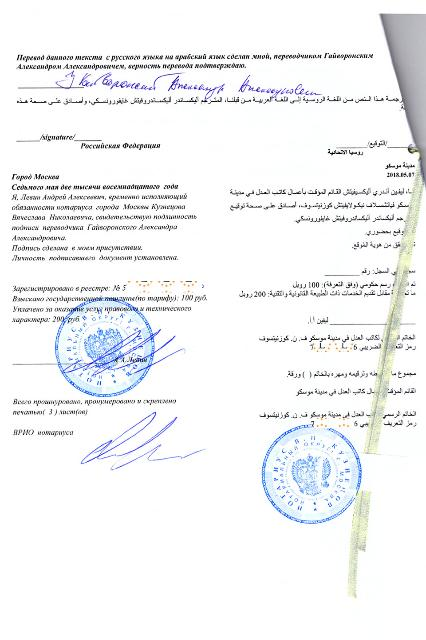stamp: (258, 427, 362, 523), (52, 300, 154, 396)
